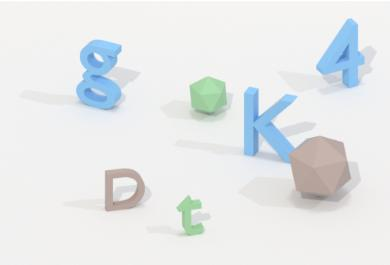0-TronCanh: (287, 134, 354, 203), (185, 71, 232, 119)
4: (309, 16, 370, 95)
D: (99, 164, 147, 215)
K: (239, 81, 300, 165)
g: (75, 34, 125, 112)
t: (171, 190, 210, 242)
